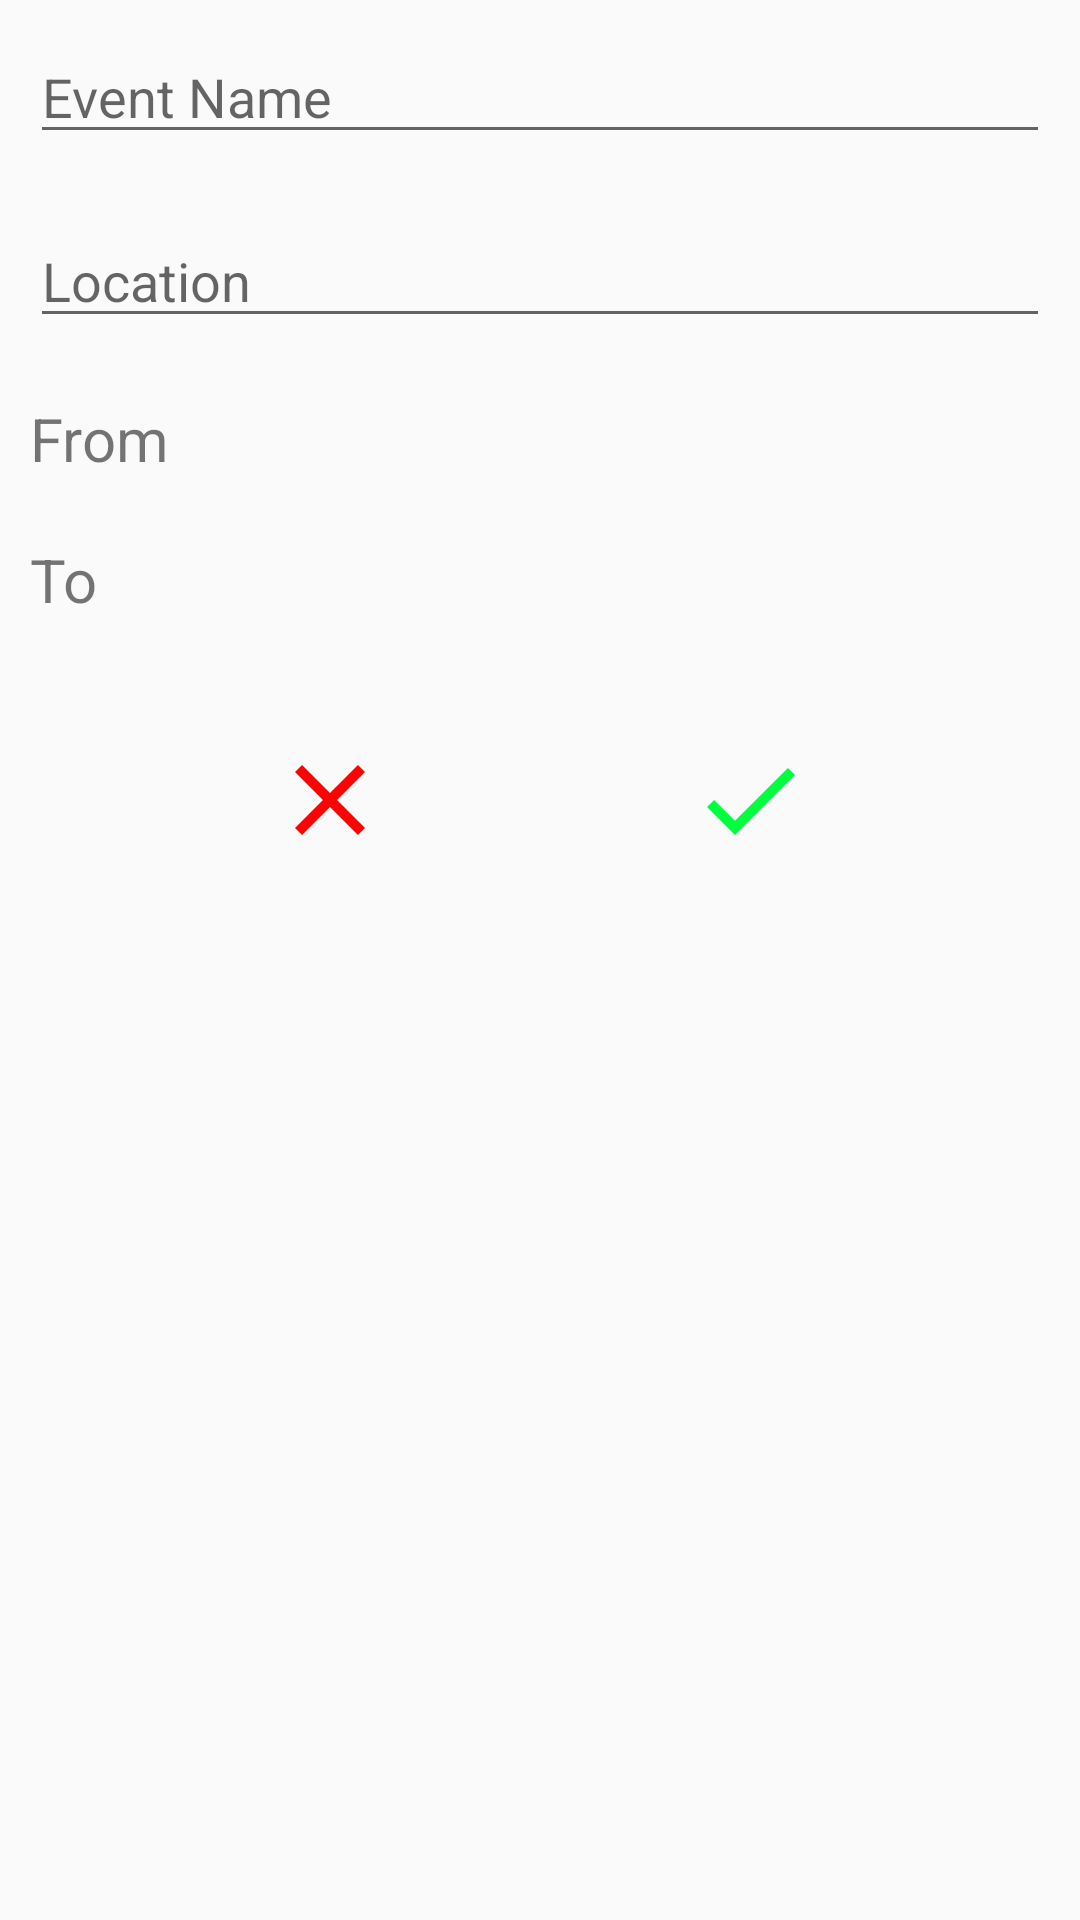

Where to tap for icons on this 1080w x 1920h app screen, as [x,y]:
cancel: [330,800]
check: [751,801]
